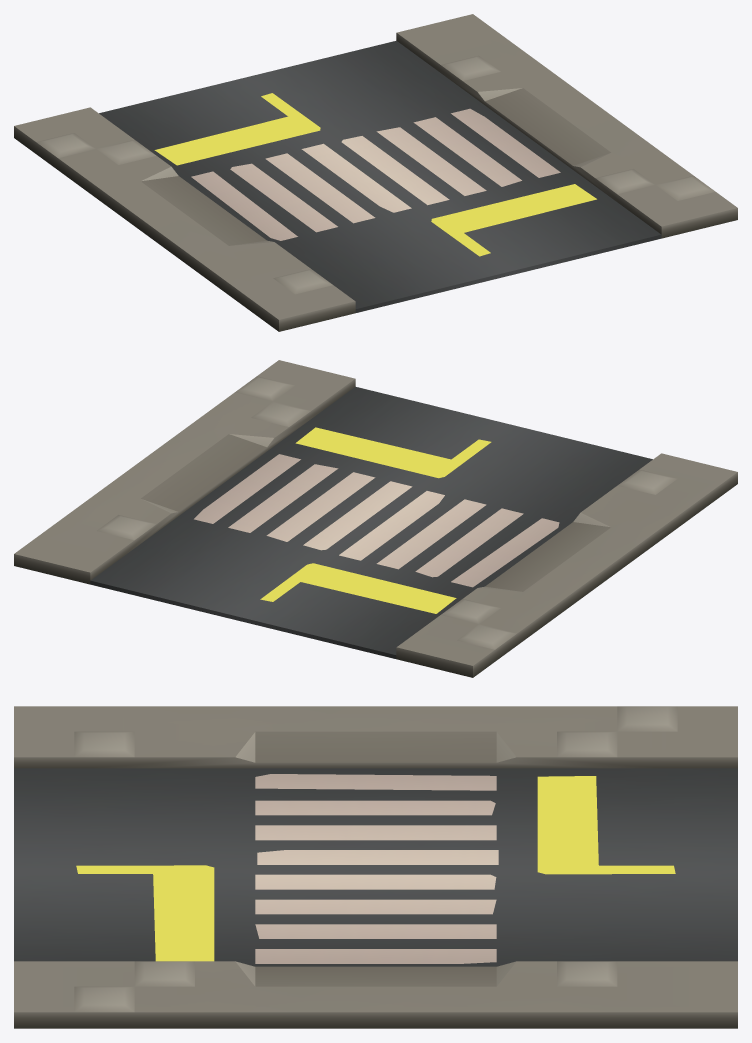
Rendered from Road_1W.fbx.
3 views of the same model, one above another, from view 1: azimuth 30°, elevation 25°; view 2: azimuth 150°, elevation 25°; view 3: azimuth 270°, elevation 25° (orthographic). The views are drawn at different scales.
Visible parts, largest first — view 1: Road_1W; view 2: Road_1W; view 3: Road_1W.
Boxes of the visible parts, x1=… form: Road_1W: x1=14, y1=14, x2=737, y2=331; Road_1W: x1=14, y1=360, x2=737, y2=677; Road_1W: x1=14, y1=706, x2=737, y2=1028.
Bounding box in the file's own units: 12 × 0.3565 × 12.
